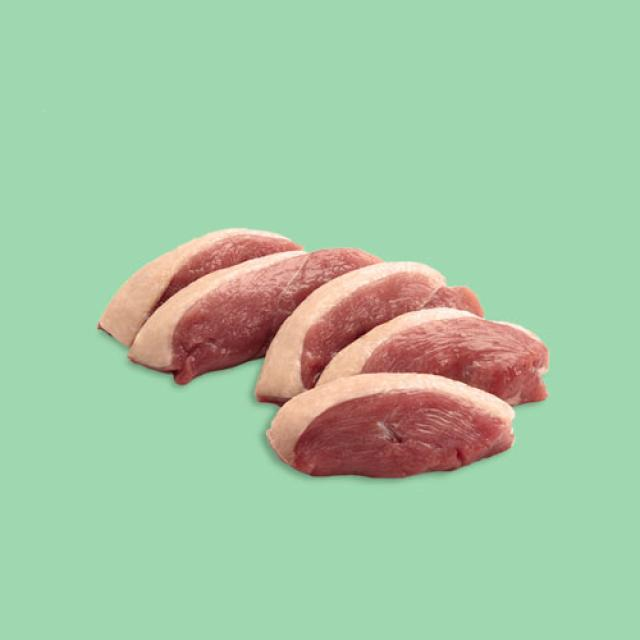duck: (129, 249, 549, 477)
